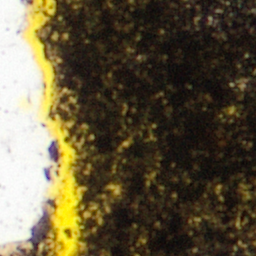cement_matrix: (42, 0, 255, 255), (22, 220, 50, 255)
cracks: (0, 0, 82, 255)
gravel_crushed_stones: (0, 0, 54, 251)
